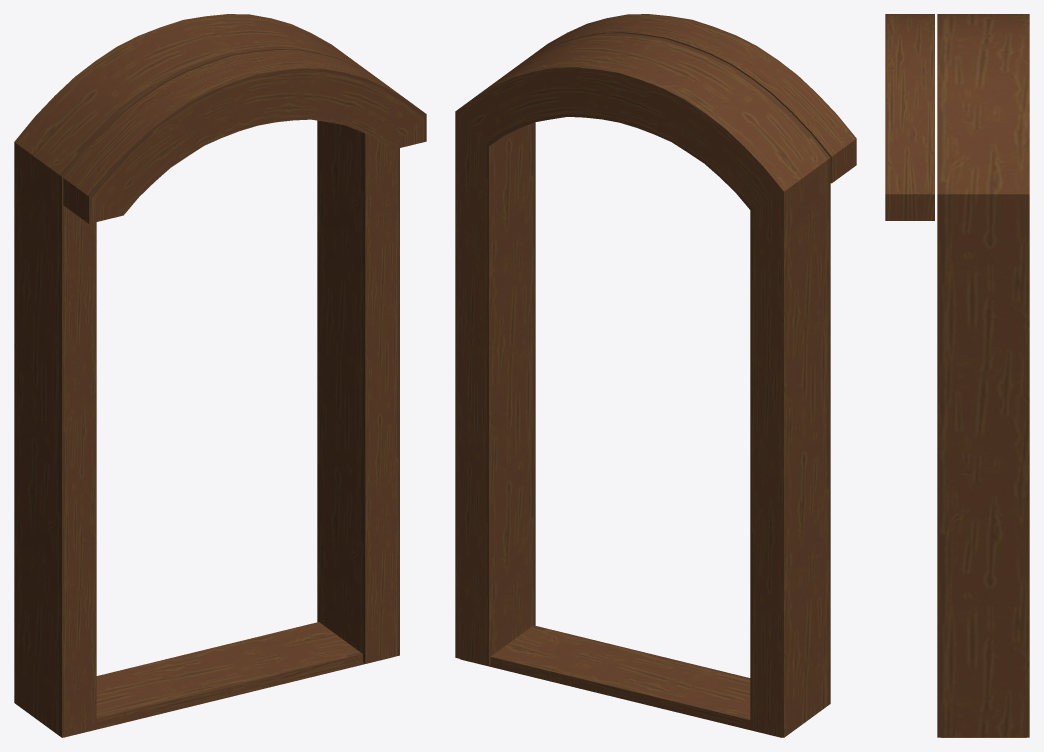
The model's file is door_frame_round.glb.
3 renders of one model, left to right at view 1: azimuth 30°, elevation 25°; view 2: azimuth 150°, elevation 25°; view 3: azimuth 270°, elevation 25°, orthographic. The views are drawn at different scales.
Visible parts, largest first — view 1: DoorFrame_Round_WoodDark; view 2: DoorFrame_Round_WoodDark; view 3: DoorFrame_Round_WoodDark.
Part boxes in pixels (box(x1,y1,x2,y2)): DoorFrame_Round_WoodDark: box(14, 14, 426, 737); DoorFrame_Round_WoodDark: box(455, 14, 856, 737); DoorFrame_Round_WoodDark: box(885, 14, 1029, 737).
Bounding box in the file's own units: 1.41 × 2.56 × 0.5389.
Materials: 1 (1 with a texture image).
